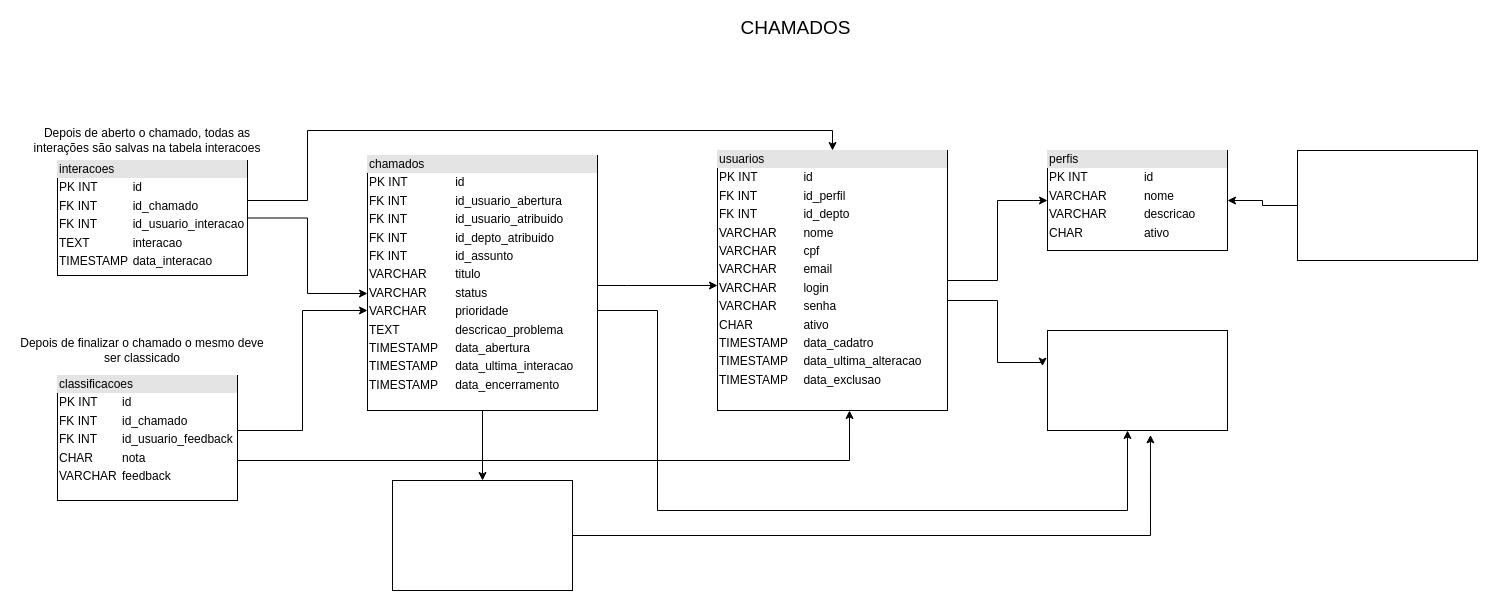
Image size: 1495x608. Some labels were removed from this diagram. Here are the shapes that lost their labels. From the top down, the box of each, then its label:
(1296, 150, 1478, 260): menus PK INT id FK INT id_perfil VARCHAR nome VARCHAR caminho
(1046, 330, 1228, 430): departamentos PK INT id VARCHAR nome VARCHAR decricao
(392, 480, 572, 590): assuntos PK INT id FK INT id_depto VARCHAR nome VARCHAR descricao
